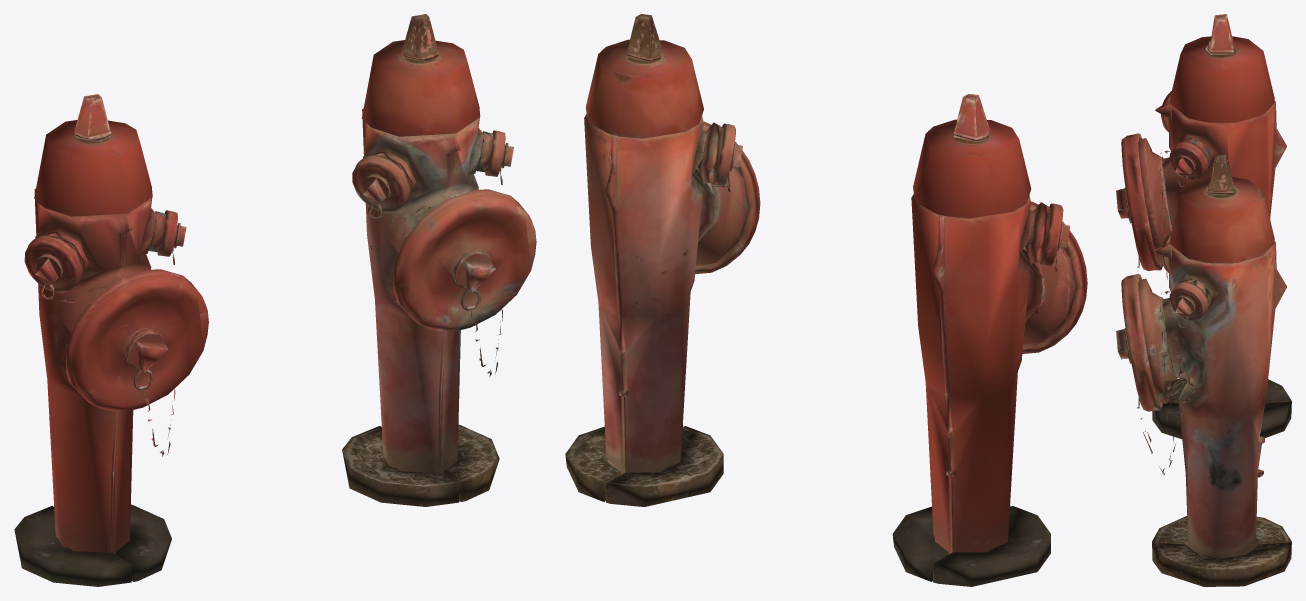
File: fire_hydrant.glb
3 views of the same model, side by side, from view 1: azimuth 30°, elevation 25°; view 2: azimuth 150°, elevation 25°; view 3: azimuth 270°, elevation 25° (orthographic). The views are drawn at different scales.
Parts seen in each view (by area): view 1: fire_hydrant_aged, fire_hydrant, fire_hydrant_cap_01_aged, fire_hydrant_cap_01, fire_hydrant_cap_03, fire_hydrant_cap_03_aged, fire_hydrant_chain_aged, fire_hydrant_chain, fire_hydrant_cap_02, fire_hydrant_cap_02_aged; view 2: fire_hydrant, fire_hydrant_aged, fire_hydrant_cap_01_aged, fire_hydrant_cap_01, fire_hydrant_cap_03_aged, fire_hydrant_cap_03; view 3: fire_hydrant_aged, fire_hydrant, fire_hydrant_cap_01, fire_hydrant_cap_01_aged, fire_hydrant_cap_02, fire_hydrant_cap_02_aged, fire_hydrant_chain_aged.
Boxes of the visible parts, left/top/right/bottom form: fire_hydrant_aged: left=342, top=14, right=499, bottom=506; fire_hydrant: left=14, top=94, right=171, bottom=586; fire_hydrant_cap_01_aged: left=393, top=189, right=536, bottom=331; fire_hydrant_cap_01: left=66, top=269, right=208, bottom=411; fire_hydrant_cap_03: left=24, top=234, right=83, bottom=292; fire_hydrant_cap_03_aged: left=352, top=155, right=411, bottom=212; fire_hydrant_chain_aged: left=367, top=152, right=504, bottom=376; fire_hydrant_chain: left=40, top=232, right=176, bottom=456; fire_hydrant_cap_02: left=157, top=210, right=186, bottom=256; fire_hydrant_cap_02_aged: left=485, top=130, right=513, bottom=176; fire_hydrant: left=892, top=94, right=1075, bottom=586; fire_hydrant_aged: left=565, top=14, right=748, bottom=506; fire_hydrant_cap_01_aged: left=695, top=121, right=760, bottom=274; fire_hydrant_cap_01: left=1022, top=201, right=1087, bottom=353; fire_hydrant_cap_03_aged: left=712, top=123, right=742, bottom=186; fire_hydrant_cap_03: left=1039, top=203, right=1070, bottom=265; fire_hydrant_aged: left=1139, top=154, right=1291, bottom=586; fire_hydrant: left=1139, top=14, right=1291, bottom=439; fire_hydrant_cap_01: left=1116, top=133, right=1162, bottom=270; fire_hydrant_cap_01_aged: left=1116, top=273, right=1162, bottom=411; fire_hydrant_cap_02: left=1169, top=141, right=1208, bottom=180; fire_hydrant_cap_02_aged: left=1169, top=281, right=1208, bottom=320; fire_hydrant_chain_aged: left=1137, top=291, right=1196, bottom=474.
Bounding box in the file's own units: 0.8745 × 0.7992 × 0.3173.
2 materials, 2 textured.
